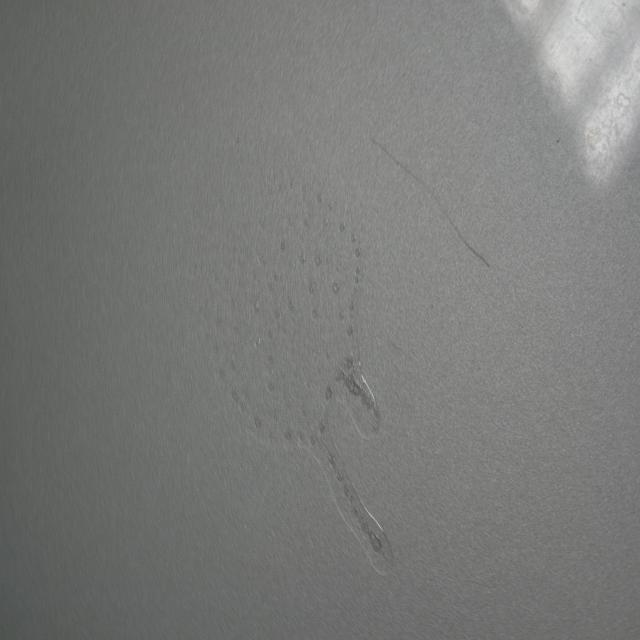runs: (198, 184, 394, 574)
scratch: (370, 132, 496, 275)
